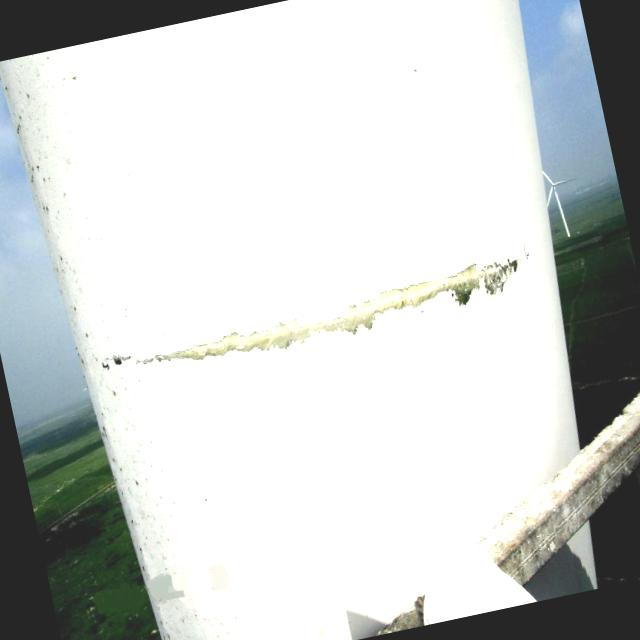surface_peeling: (130, 248, 530, 382)
